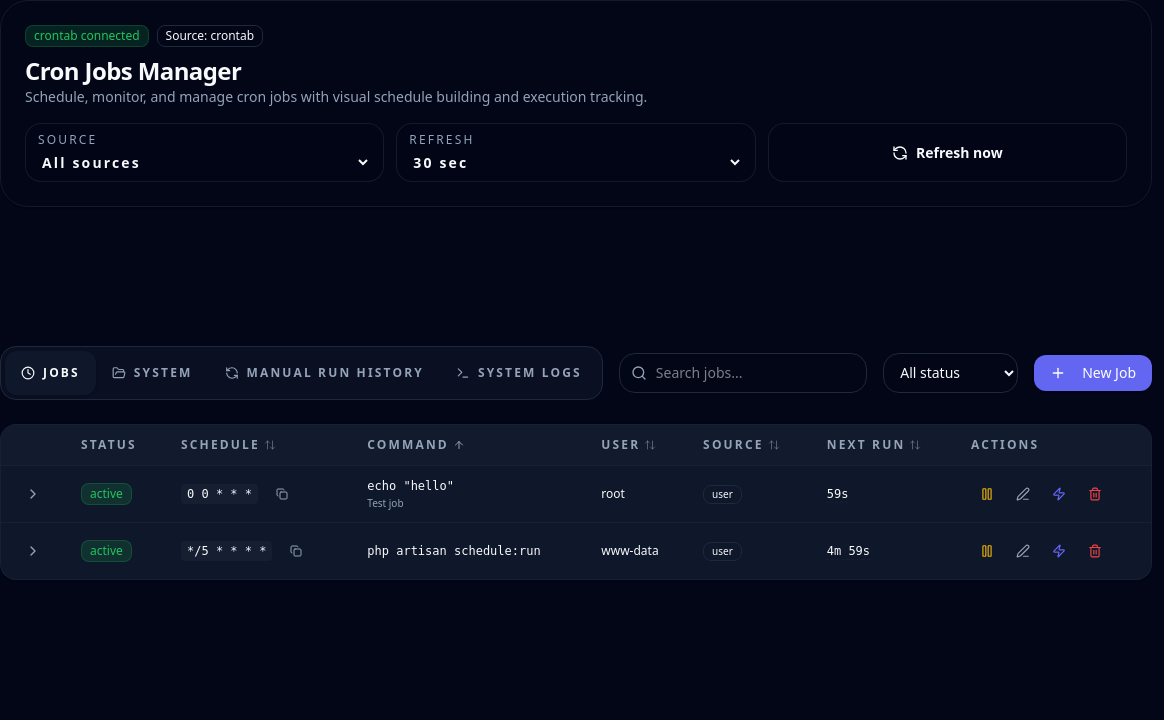
Test: CronsPage › switches to execution logs tab
Click the tab "system logs": (519, 372) [440, 350, 598, 394]
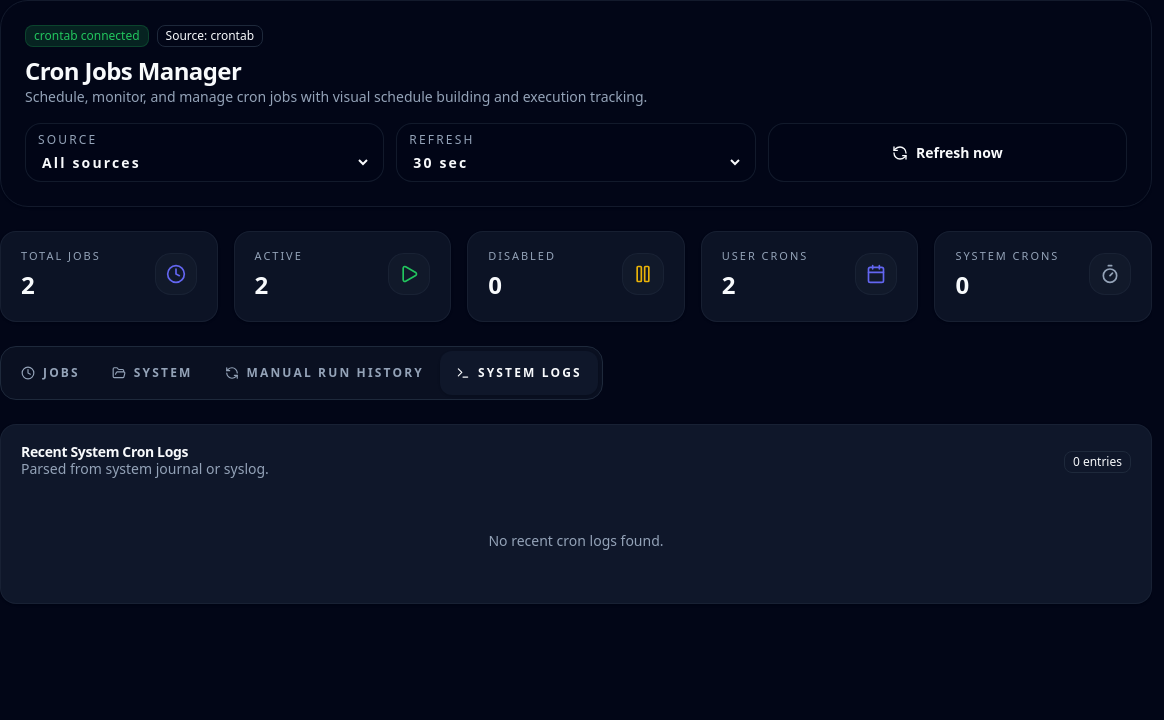
Expected: the heading "Recent System Cron Logs" is shown, [21, 442, 188, 460]
